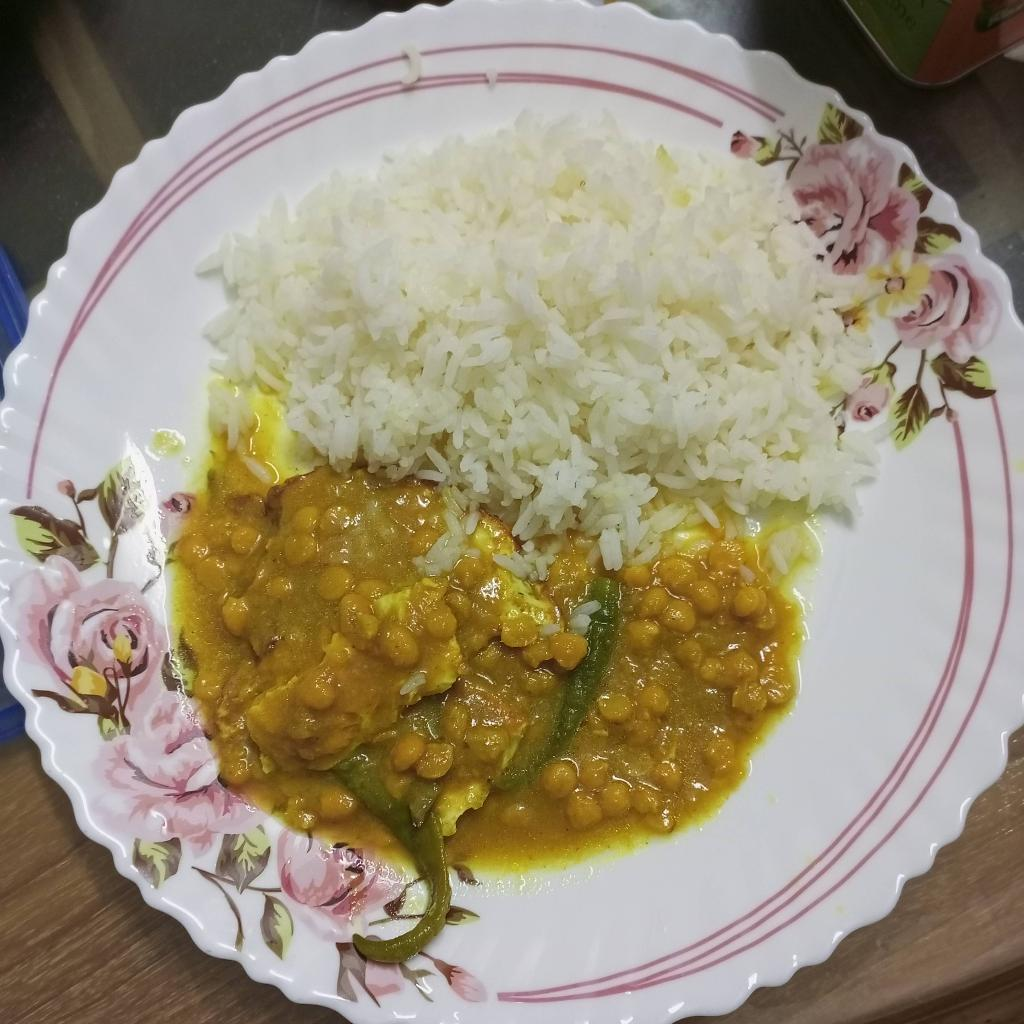daal: (168, 452, 799, 867)
rice: (206, 119, 883, 567)
